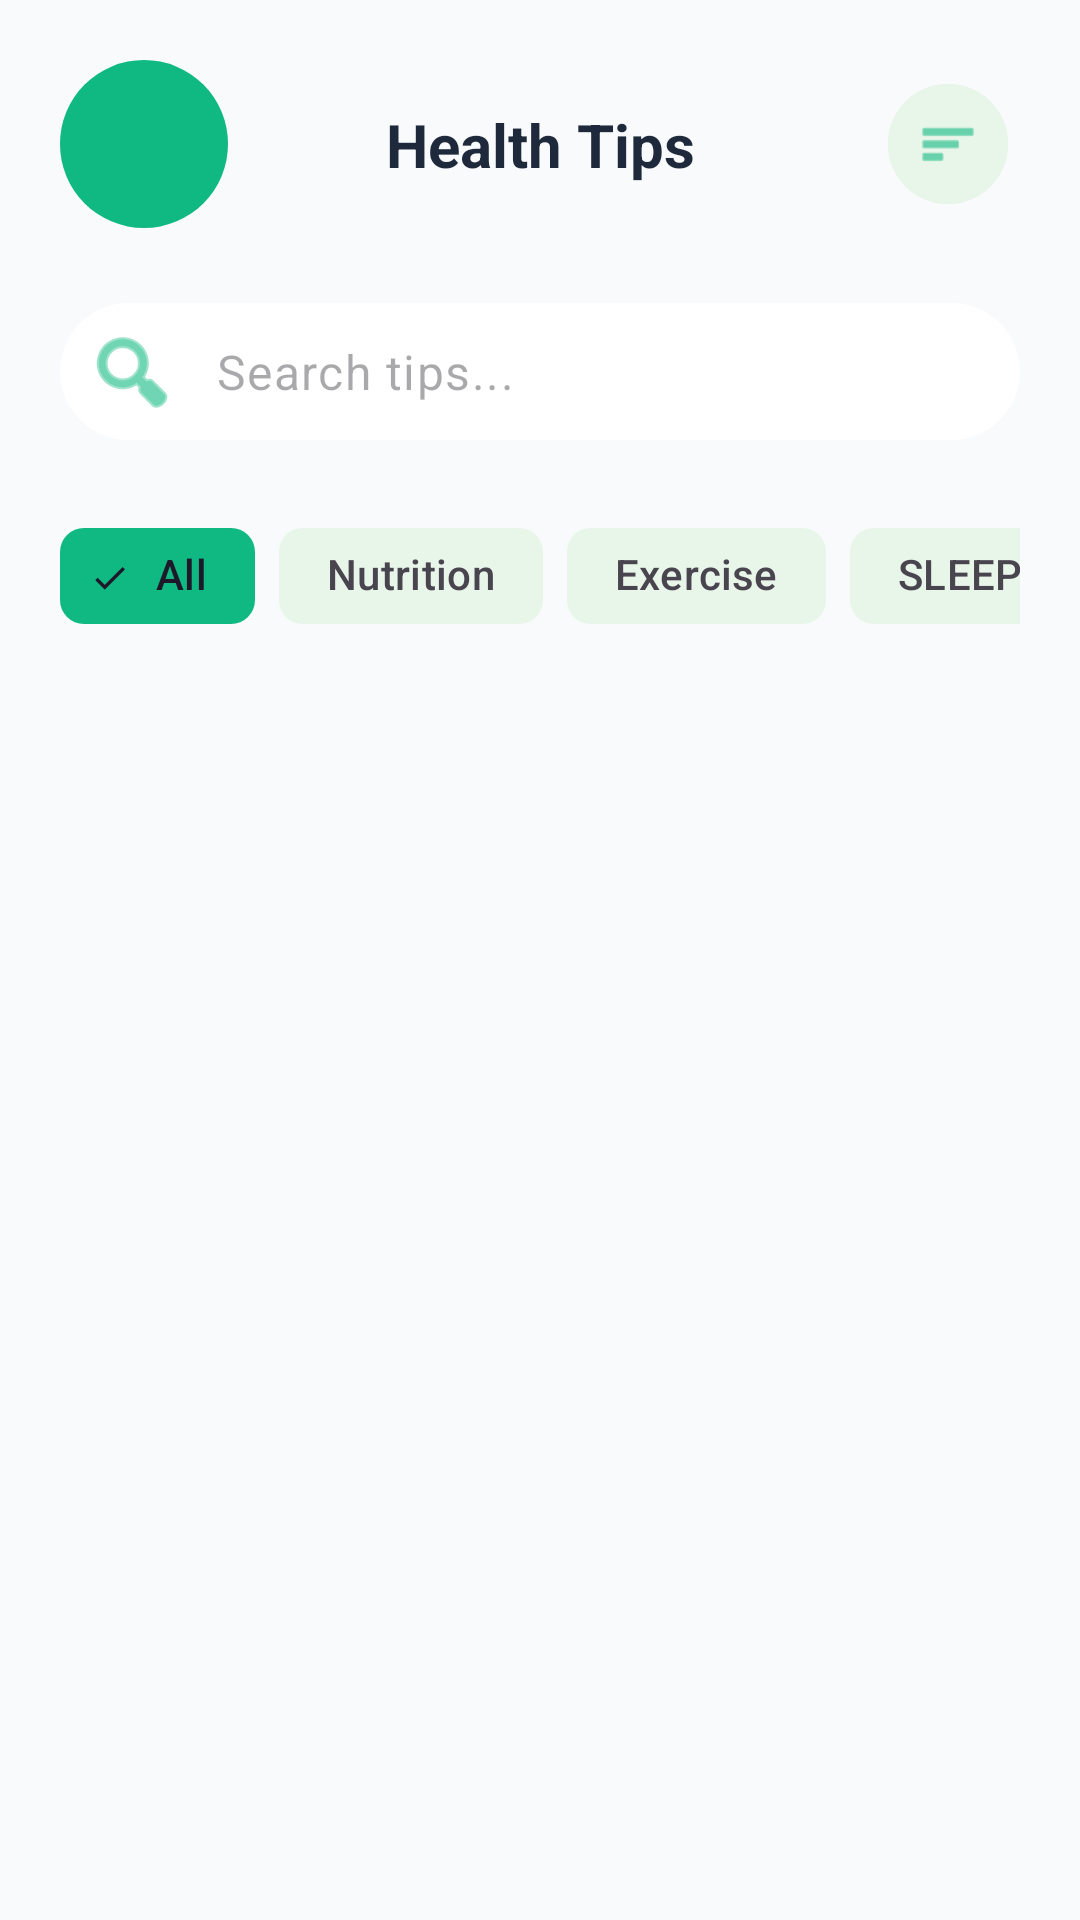

Named icons in this screenshot (1080w x 1920h) and their centers, [x,y]:
sort by size: [948,144]
